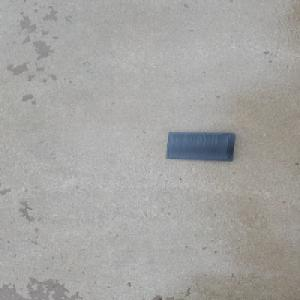PlasticPart: (164, 131, 237, 162)
